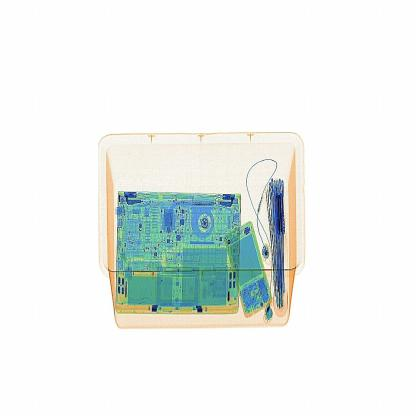scissors: (272, 189, 294, 246)
